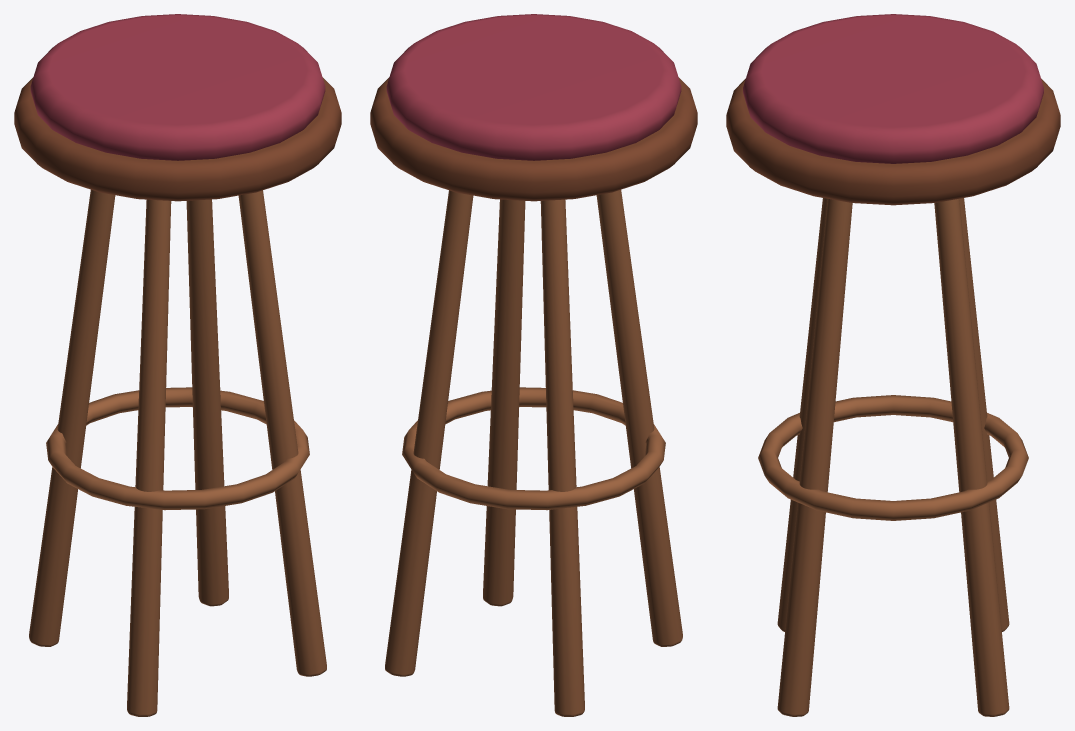
File: bar-stool.glb
3 renders of one model, left to right at view 1: azimuth 30°, elevation 25°; view 2: azimuth 150°, elevation 25°; view 3: azimuth 270°, elevation 25°, orthographic. The views are drawn at different scales.
Visible parts, largest first — view 1: bar-stool; view 2: bar-stool; view 3: bar-stool.
Part boxes in pixels (<box>): bar-stool: <box>14,14,341,716</box>; bar-stool: <box>370,14,697,716</box>; bar-stool: <box>726,14,1060,716</box>.
Bounding box in the file's own units: 0.4 × 0.7918 × 0.4.
